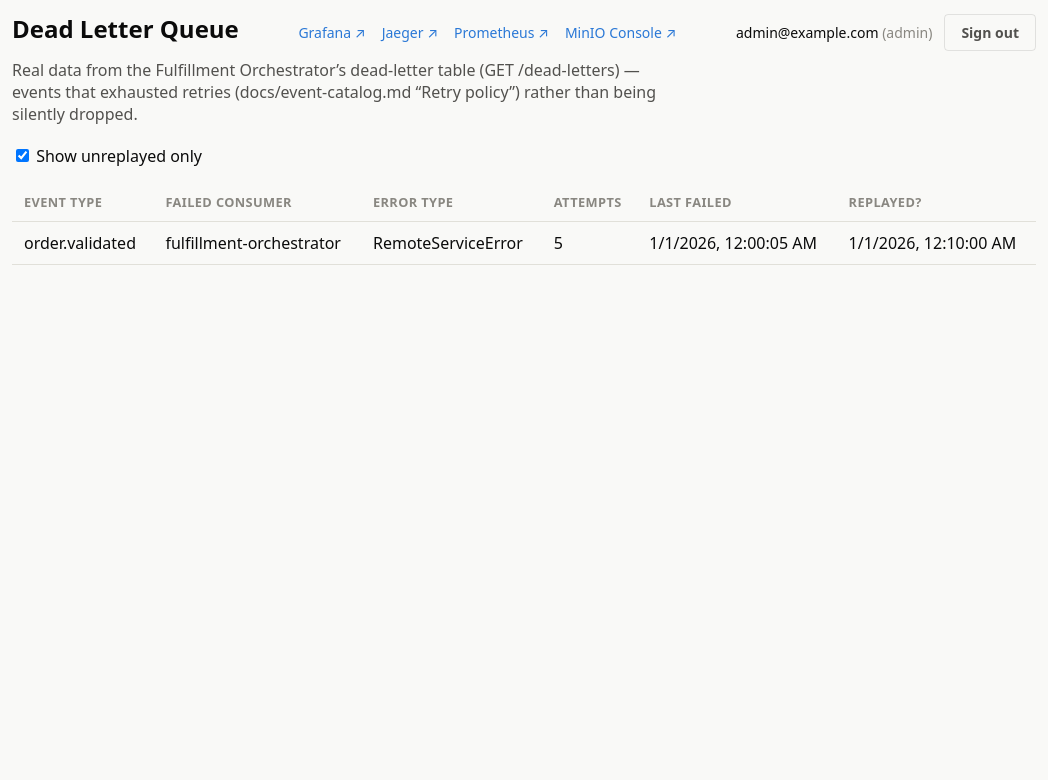
Scenario: DeadLetterQueuePage › already-replayed events show the timestamp instead of a Replay button
The image size is (1048, 780).
Click the text "order.validated" at [83, 243], box [12,222,153,264]
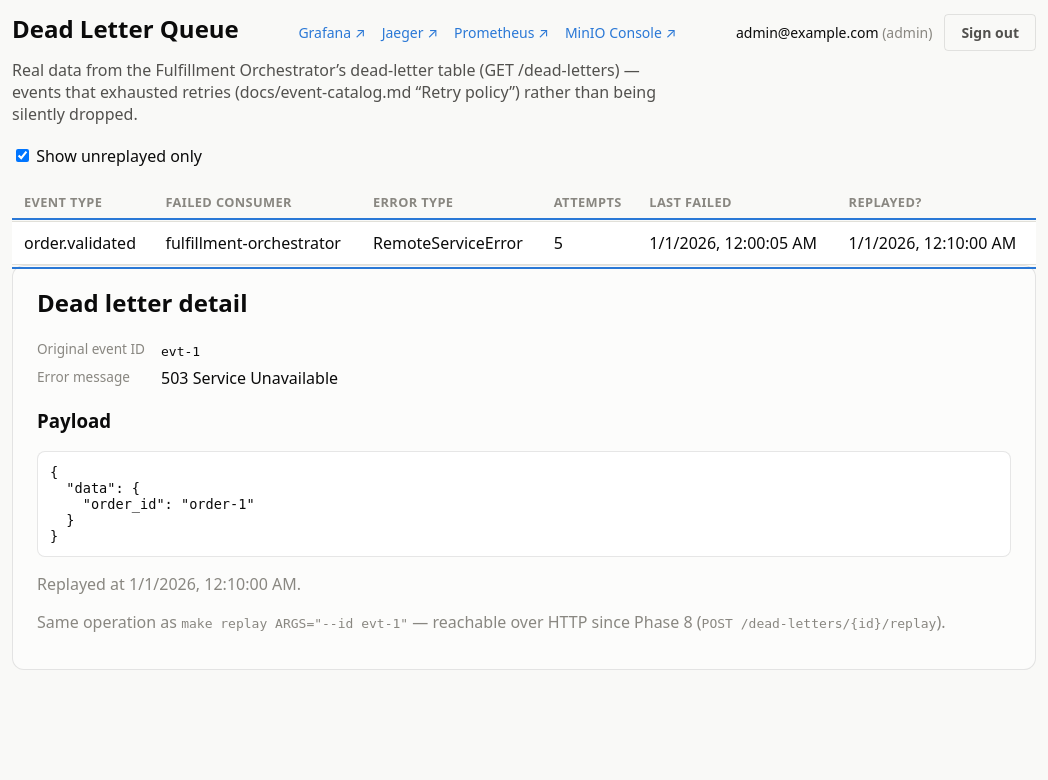
Now the text "Replayed at 1/1/2026, 12:10:00 AM." is shown, box [37,573,301,595]
